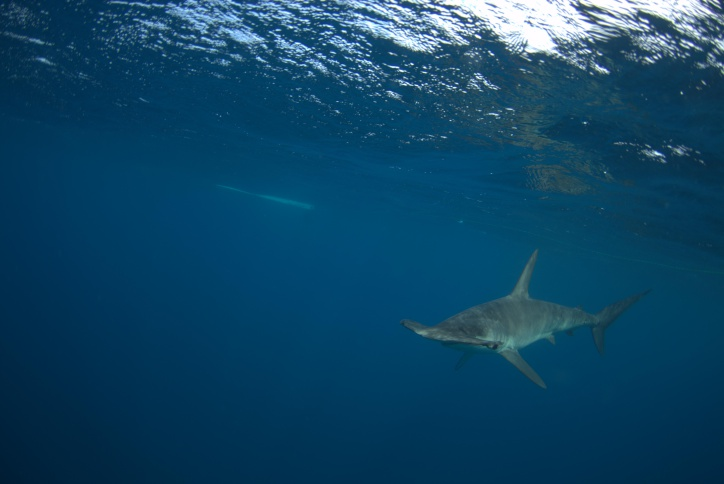Hammer: (371, 242, 660, 399)
